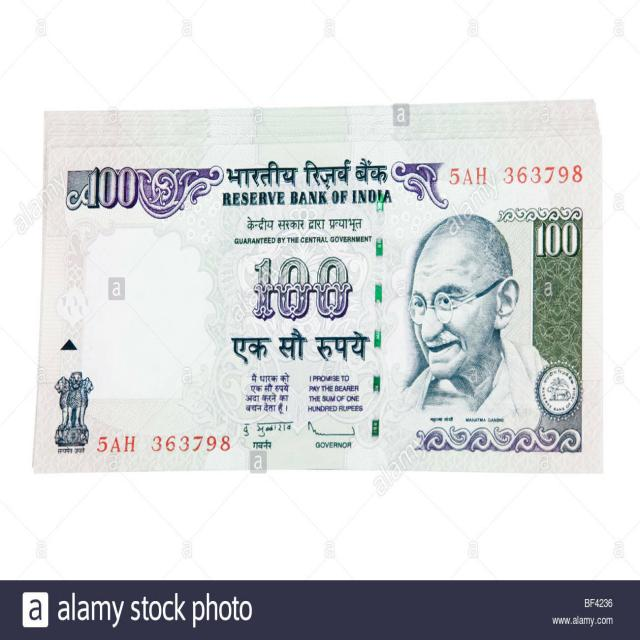100IndianRupees: (35, 107, 605, 468)
